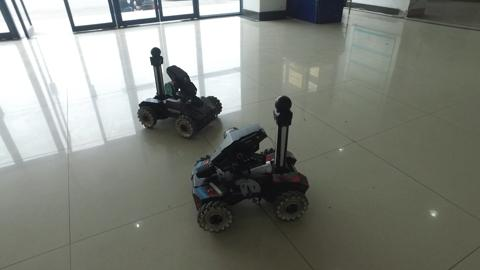chariot: (186, 94, 317, 232), (137, 44, 225, 140)
